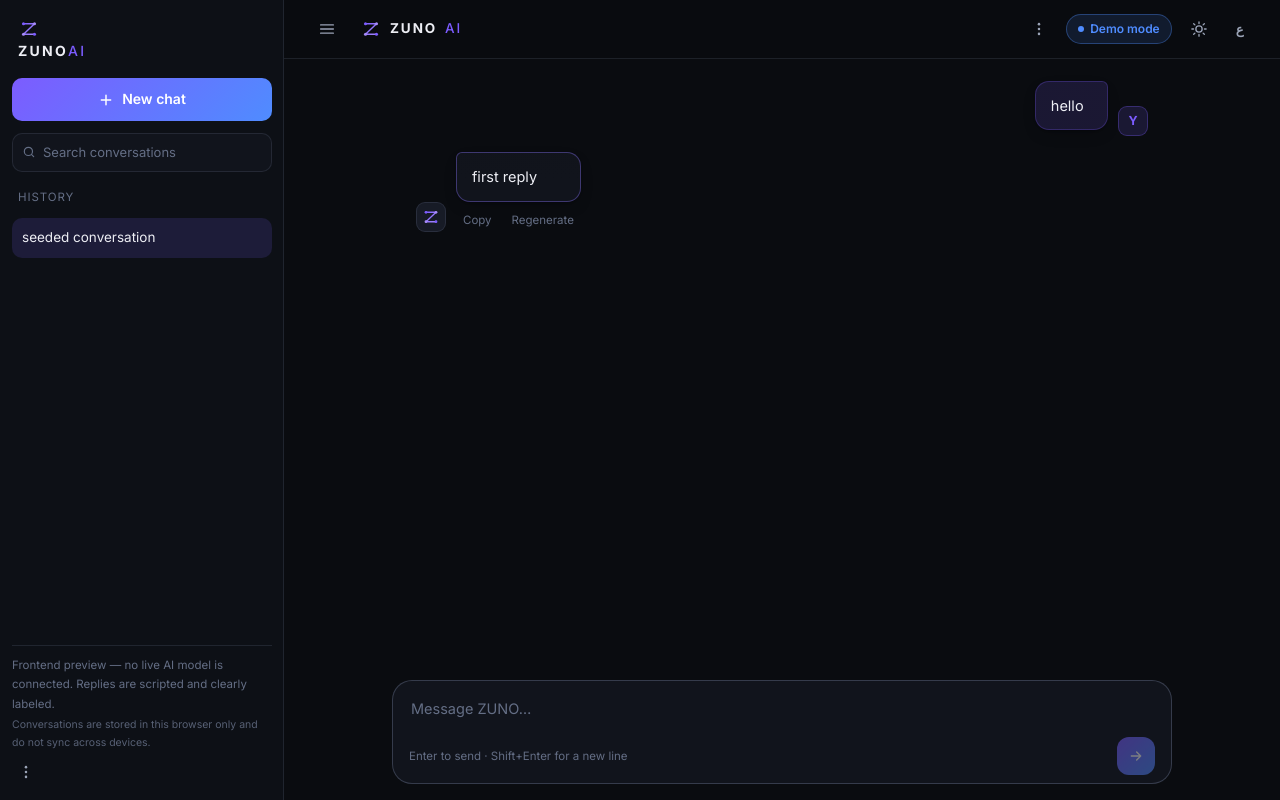
Test: Chat one-request invariant (spec T1–T6) › T1: one Regenerate click starts exactly one request and replaces the reply
Click the button "Regenerate" at coordinates (543, 220), box [505,208,581,232]
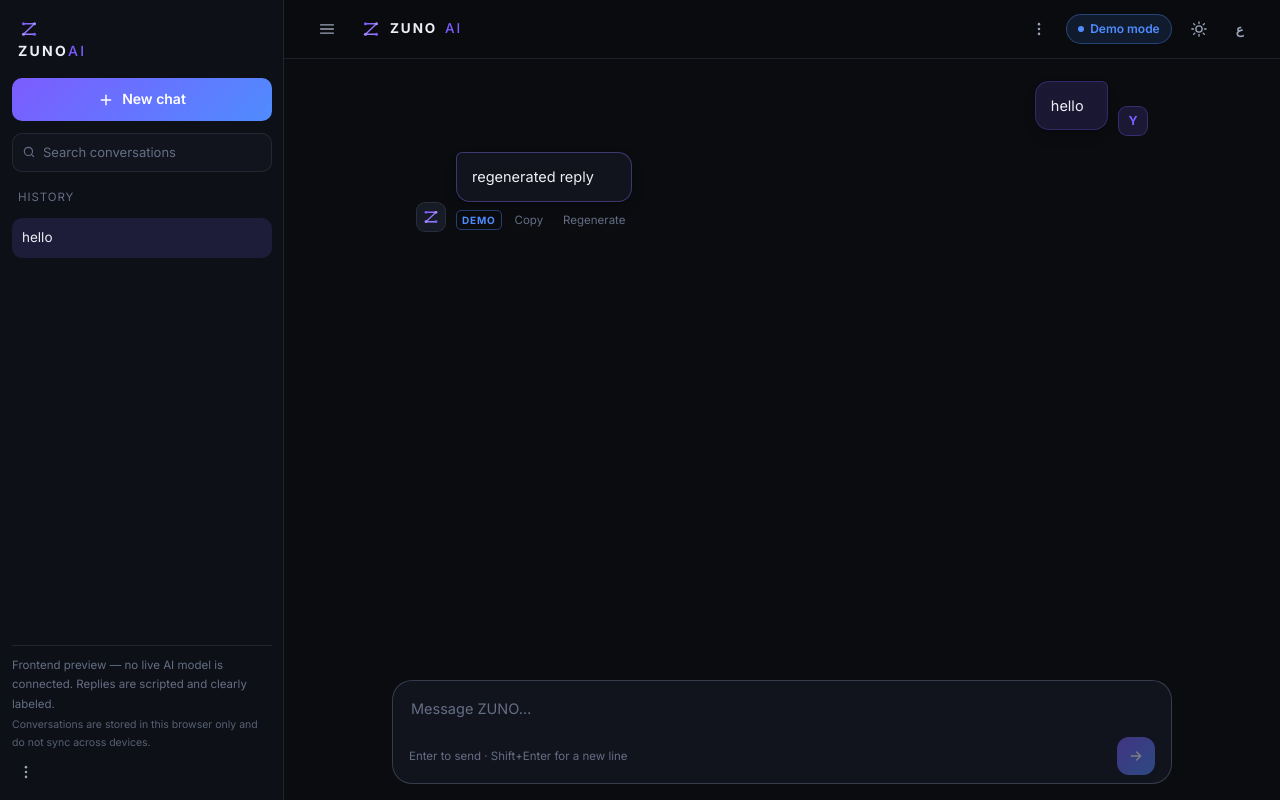
Result: the text "regenerated reply" is shown at [472,168,594,185]
